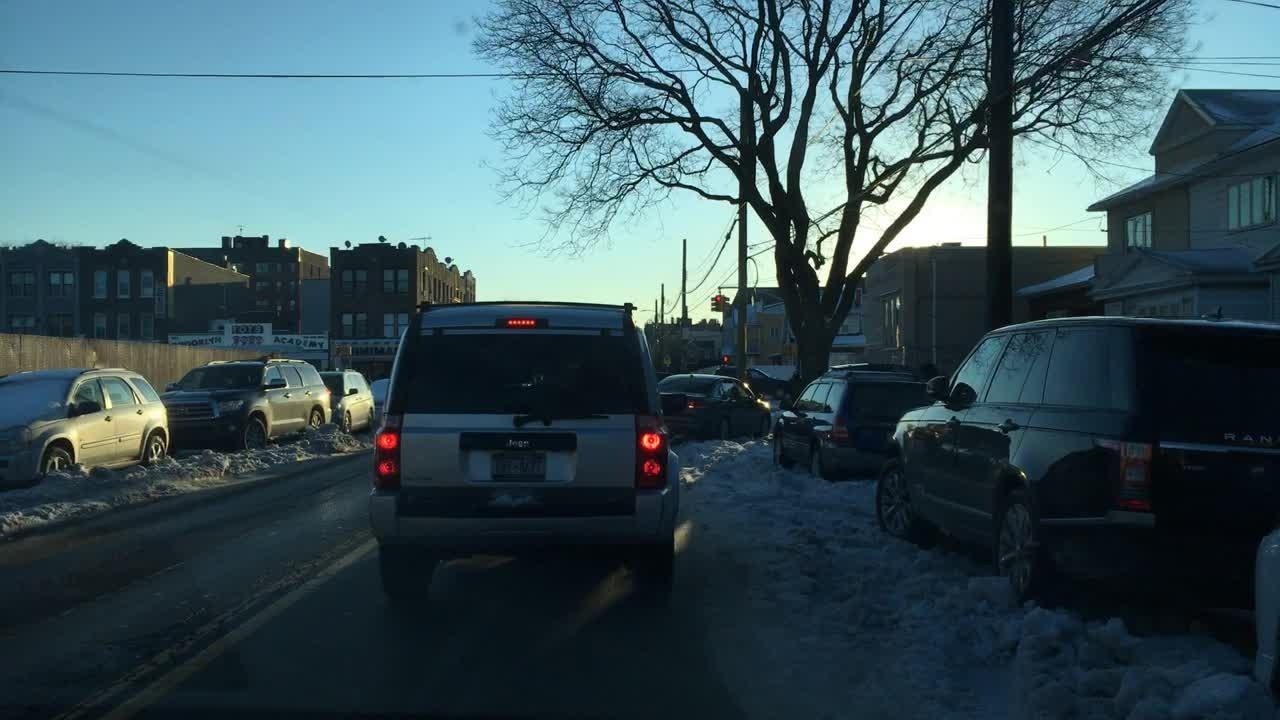jeep: (502, 433, 535, 453)
